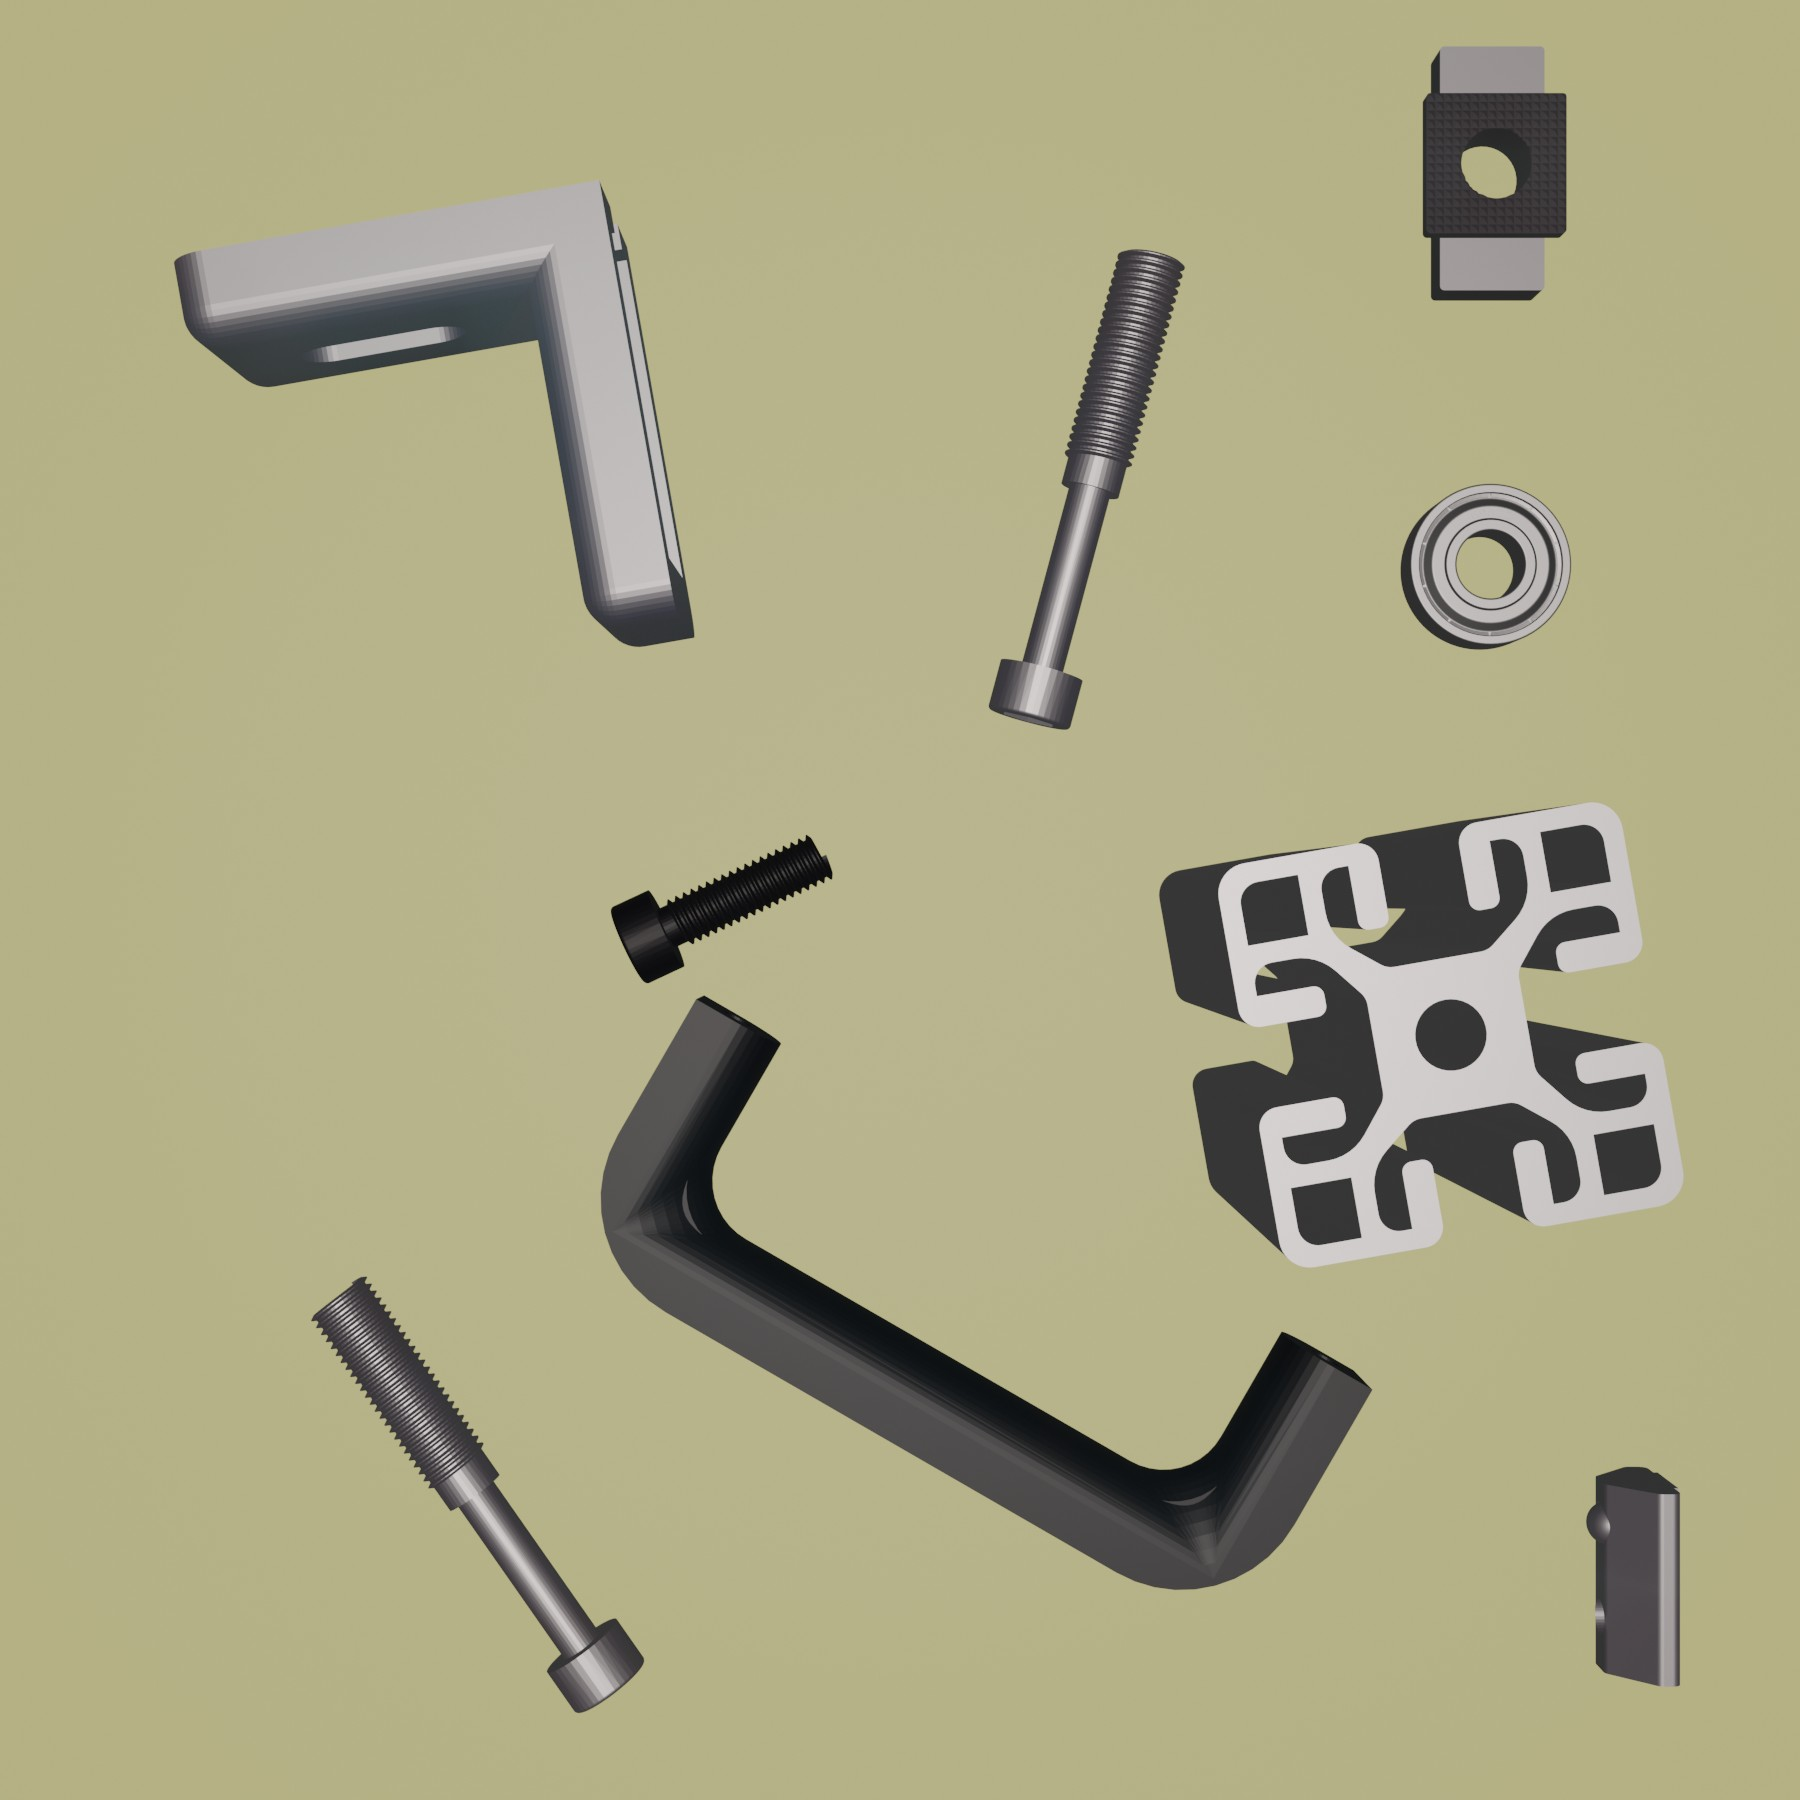Aluminium Extension: (1155, 799, 1688, 1273)
Ball Bearing: (1398, 480, 1574, 651)
Multiwinkel: (170, 176, 697, 651)
Pull Handle: (597, 991, 1375, 1592)
Shoulder Socket Head Cap Screw: (308, 1273, 648, 1714), (986, 246, 1188, 732)
Socket Head Cap Screw: (608, 831, 836, 987)
T Nut Square: (1416, 41, 1569, 303)
T Spring Nut: (1581, 1462, 1681, 1691)
